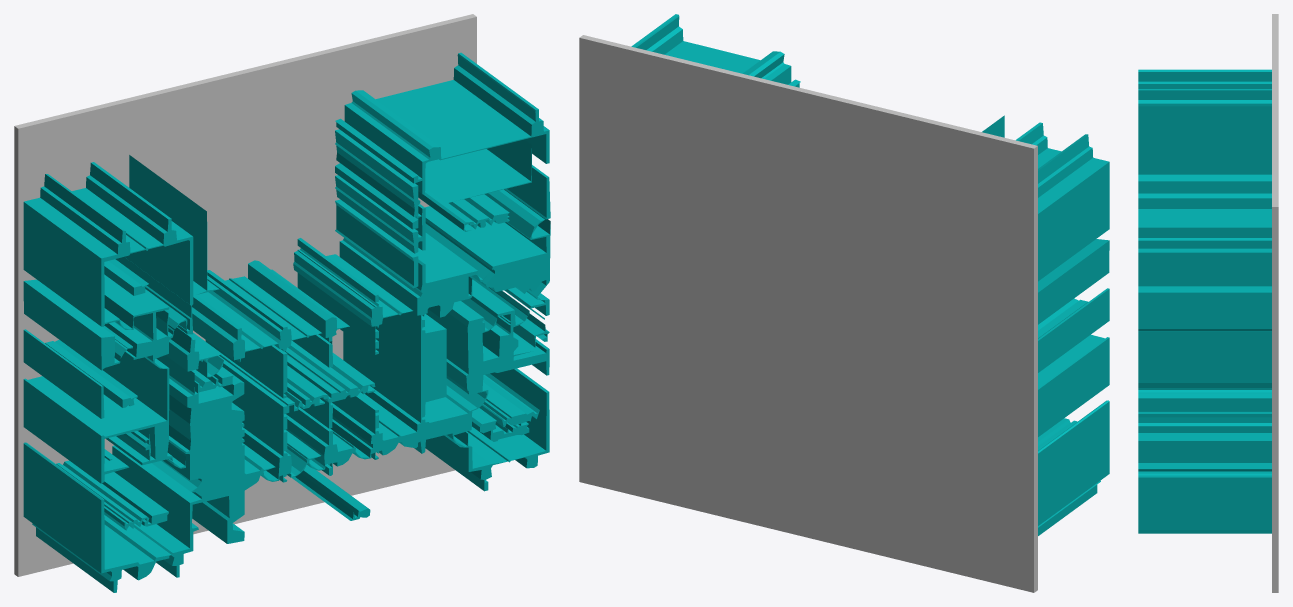
3 views of the same model, side by side, from view 1: azimuth 30°, elevation 25°; view 2: azimuth 150°, elevation 25°; view 3: azimuth 270°, elevation 25° (orthographic). The views are drawn at different scales.
Visible parts, largest first — view 1: world; view 2: world; view 3: world.
Part boxes in pixels (bbox=[...]): world: bbox=[14, 14, 550, 592]; world: bbox=[579, 14, 1109, 592]; world: bbox=[1138, 14, 1278, 592].
Bounding box in the file's own units: 10.23 × 9.55 × 3.15.
